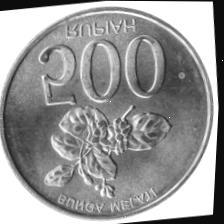coin_500_e2003: (0, 5, 216, 219)
